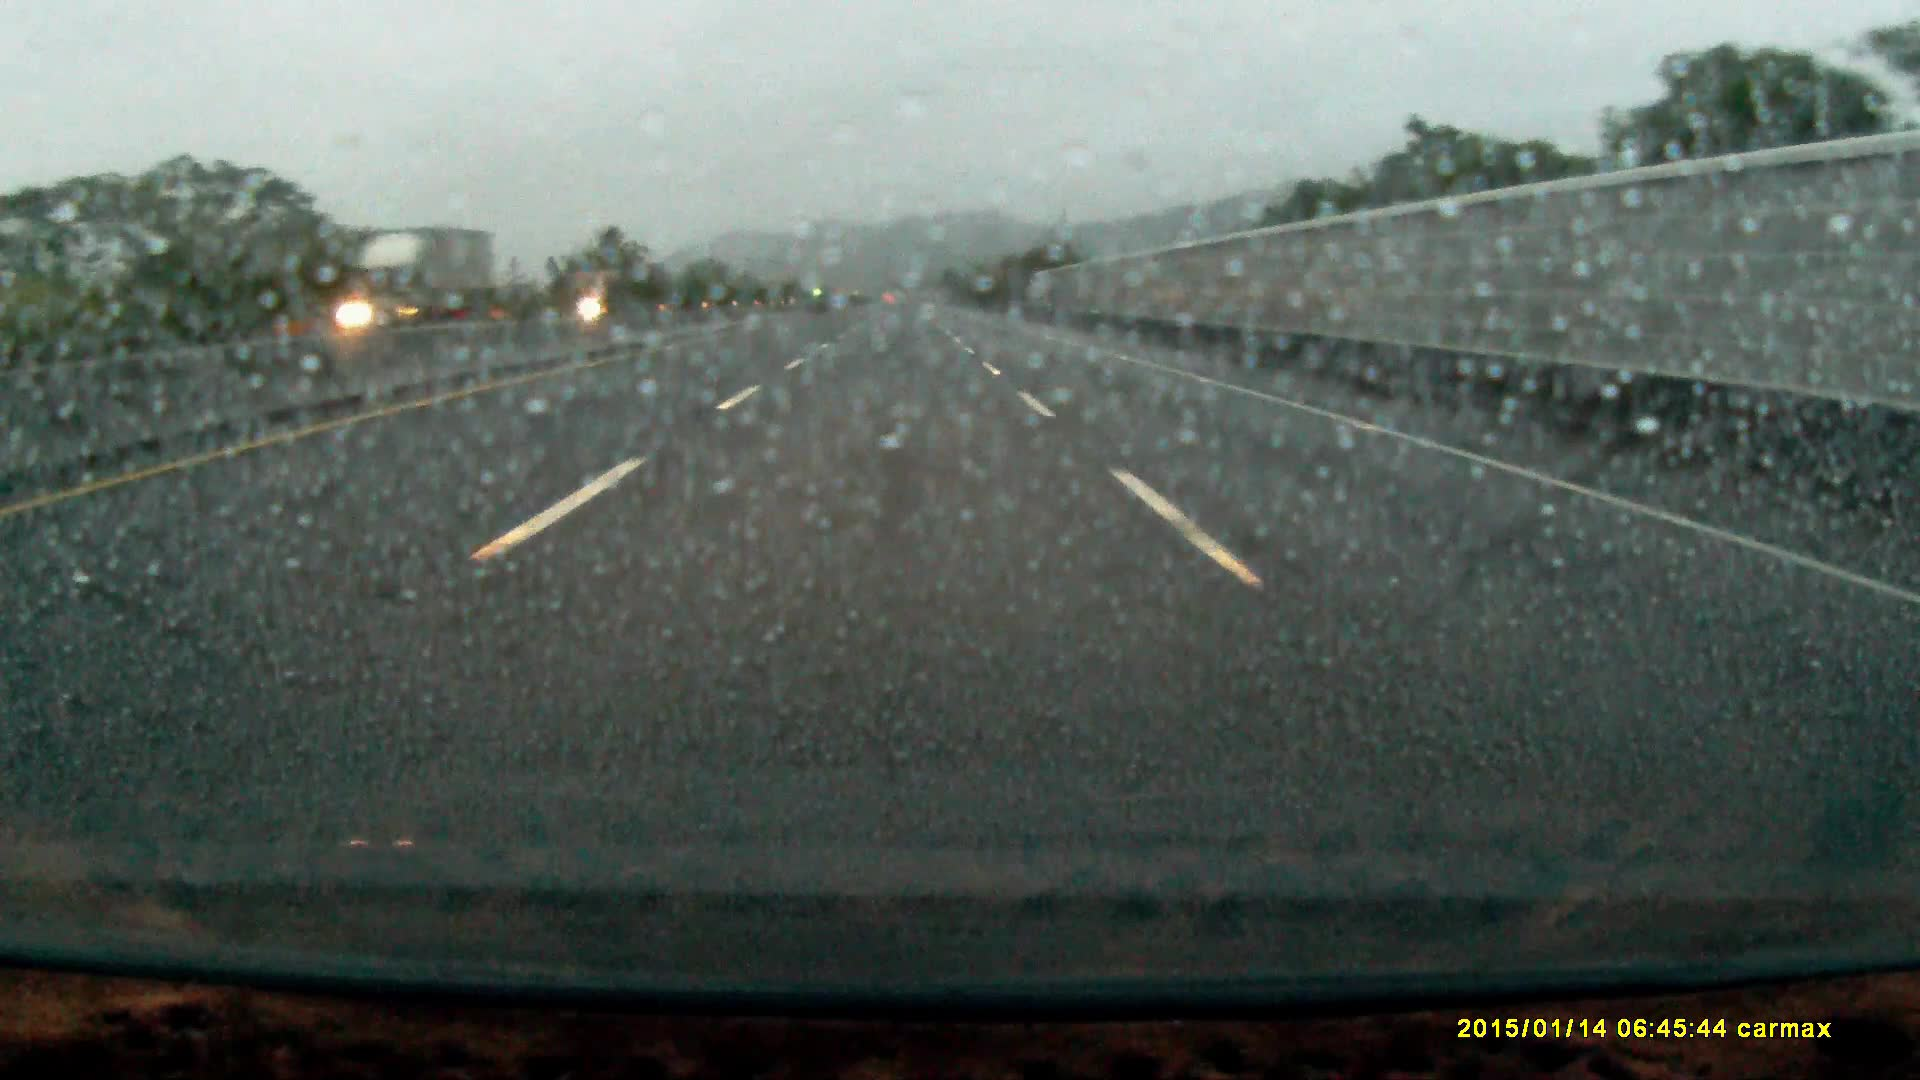vehicle: (328, 232, 497, 327)
